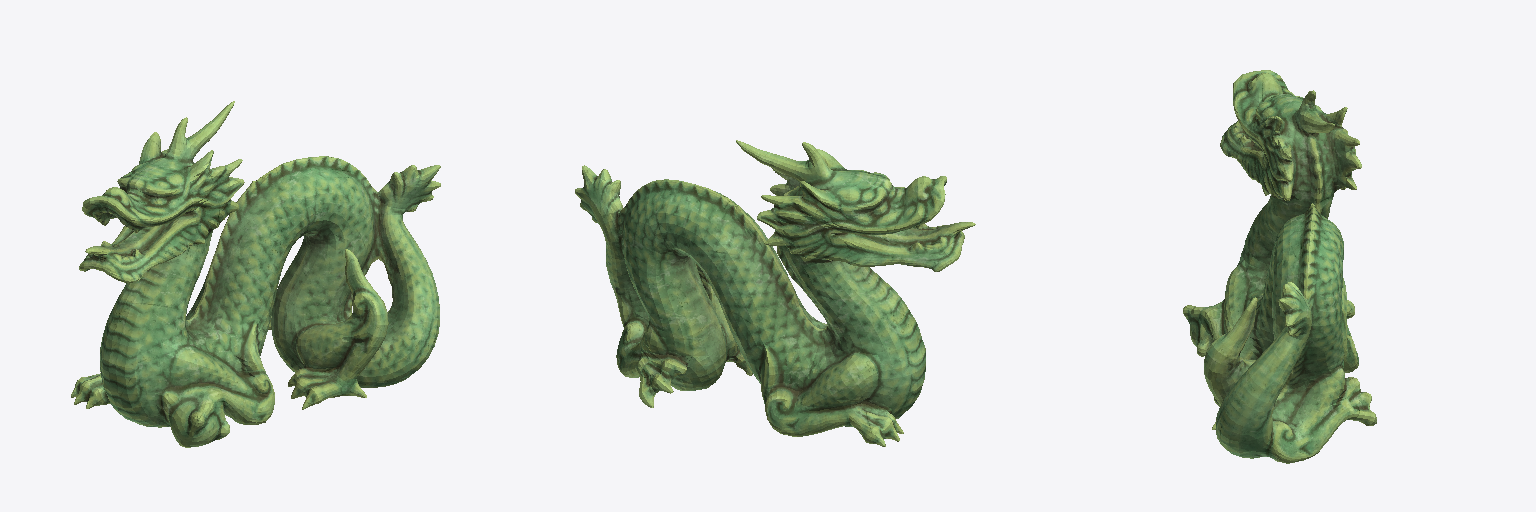
3 views of the same model, side by side, from view 1: azimuth 30°, elevation 25°; view 2: azimuth 150°, elevation 25°; view 3: azimuth 270°, elevation 25° (orthographic).
Size of the model in its own units: 142 by 99.61 by 63.21.
Materials: 1 (1 with a texture image).